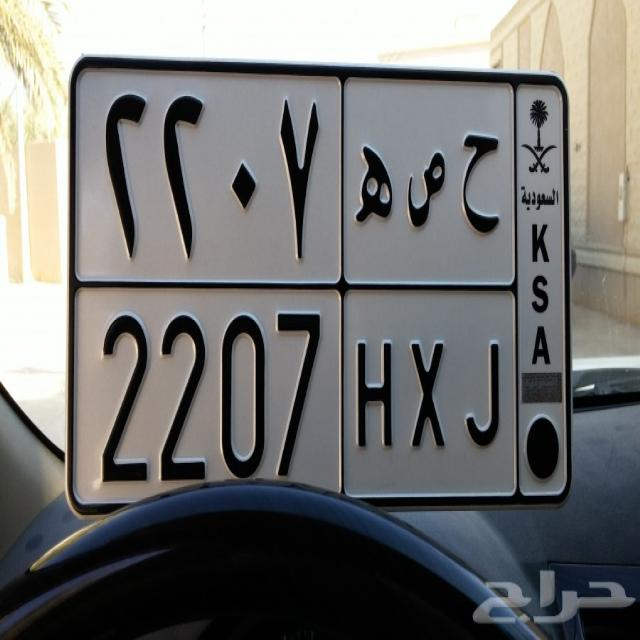license_plate: (70, 279, 520, 511)
